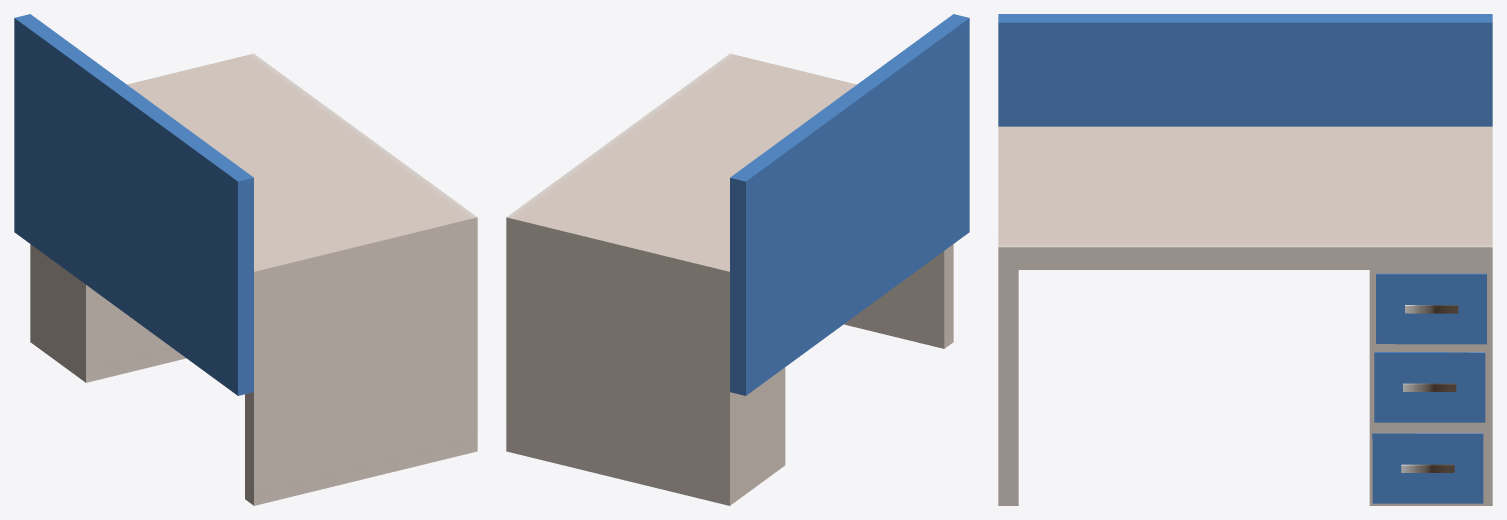
File: Childroom2_Table.fbx
3 views of the same model, side by side, from view 1: azimuth 30°, elevation 25°; view 2: azimuth 150°, elevation 25°; view 3: azimuth 270°, elevation 25° (orthographic). The views are drawn at different scales.
Parts seen in each view (by area): view 1: Childroom2_Table; view 2: Childroom2_Table; view 3: Childroom2_Table.
Part boxes in pixels (x1,y1,x2,y2): Childroom2_Table: [14, 14, 477, 505]; Childroom2_Table: [506, 14, 969, 505]; Childroom2_Table: [998, 14, 1492, 505].
Size of the model in its own units: 118 by 152 by 188.
